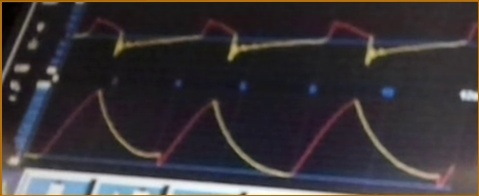Accumulation Flow: (75, 10, 478, 68)
Volume: (25, 89, 458, 188)
